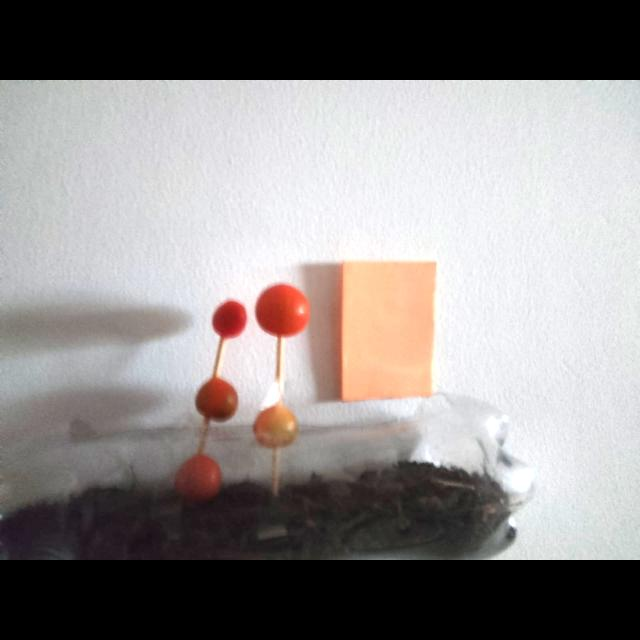card: (341, 263, 436, 401)
fruit_maturation: (253, 403, 298, 449)
fully_grown: (255, 284, 309, 339), (175, 454, 221, 503), (196, 377, 238, 422), (212, 301, 247, 338)
